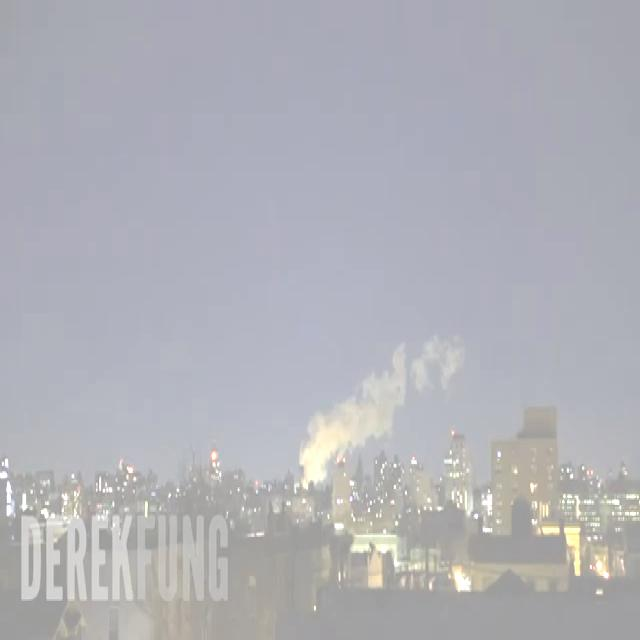smoke: (299, 343, 406, 491)
